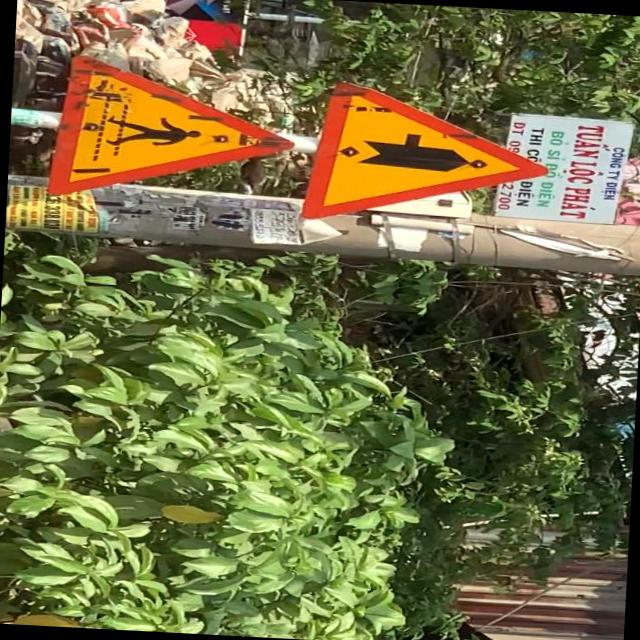W-207c: (302, 82, 552, 232)
W-224: (44, 51, 299, 210)
